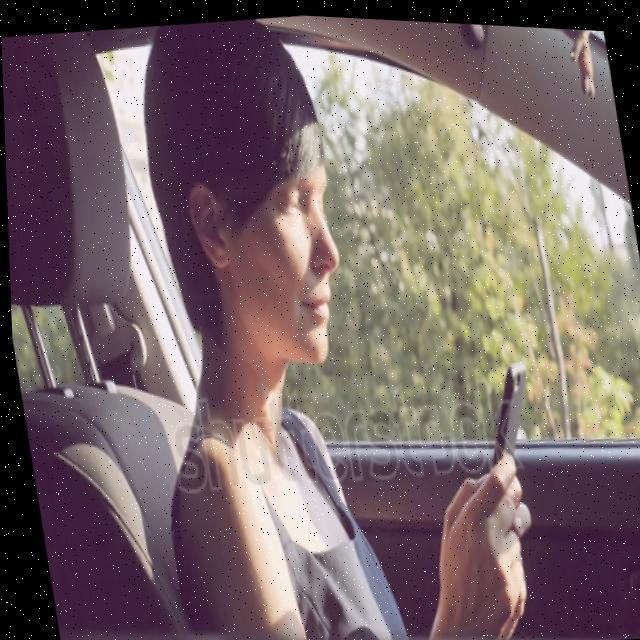PhoneCall: (472, 349, 538, 468)
